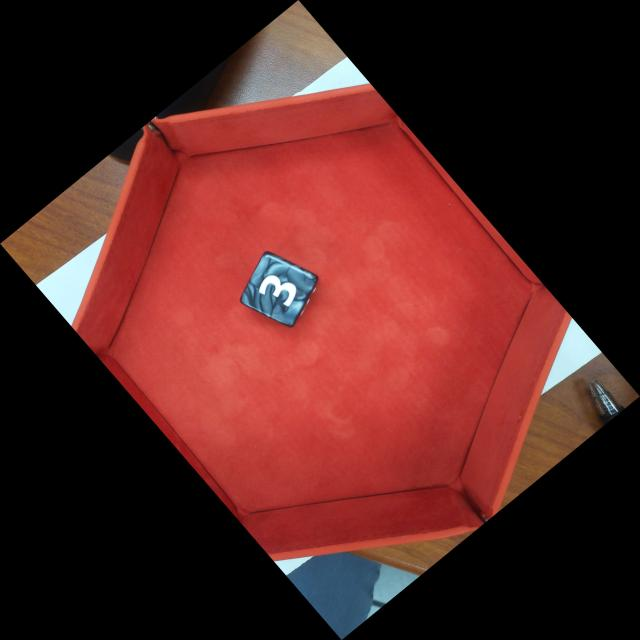dice: (239, 249, 321, 330)
